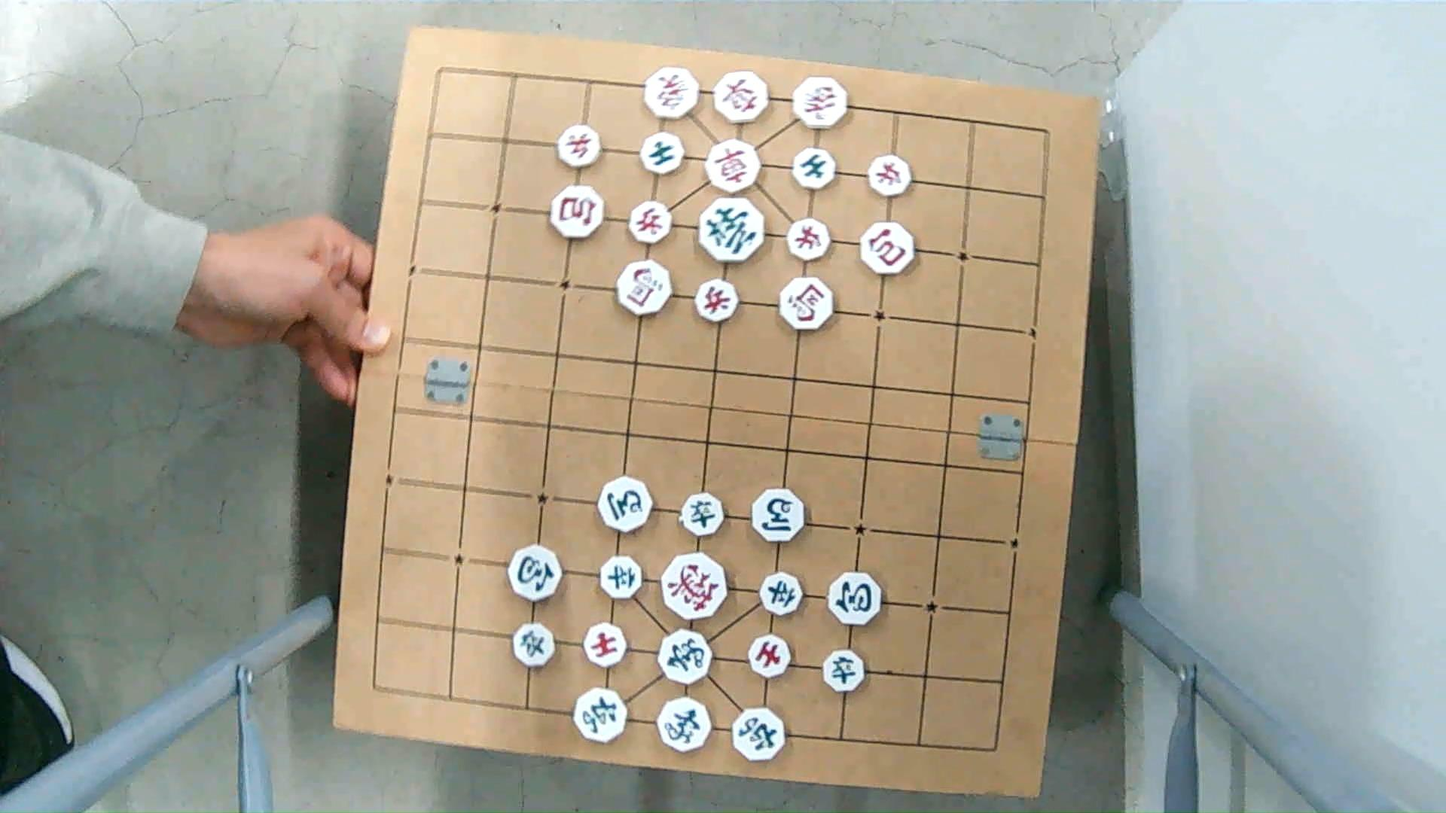cha_green: (731, 705, 786, 765), (572, 691, 627, 741)
cha_red: (711, 74, 769, 122), (704, 145, 760, 193)
jol_green: (512, 624, 557, 666), (599, 558, 645, 598), (682, 494, 726, 535), (761, 573, 805, 614), (824, 652, 868, 692)
jol_red: (628, 203, 672, 244), (695, 282, 740, 321), (787, 221, 832, 260), (557, 129, 602, 167), (865, 157, 910, 193)
ma_green: (599, 479, 656, 530), (754, 493, 808, 543)
ma_red: (615, 263, 677, 317), (782, 282, 836, 330)
po_green: (505, 545, 562, 597), (828, 574, 883, 625)
po_red: (549, 188, 604, 239), (863, 224, 918, 273)
sa_green: (792, 151, 837, 191), (639, 134, 685, 172)
sa_red: (583, 623, 632, 668), (746, 632, 791, 678)
sang_green: (657, 630, 712, 682), (656, 701, 712, 751)
sang_red: (643, 70, 699, 120), (790, 80, 847, 129)
wang_green: (697, 199, 765, 261)
wang_red: (659, 559, 726, 619)
